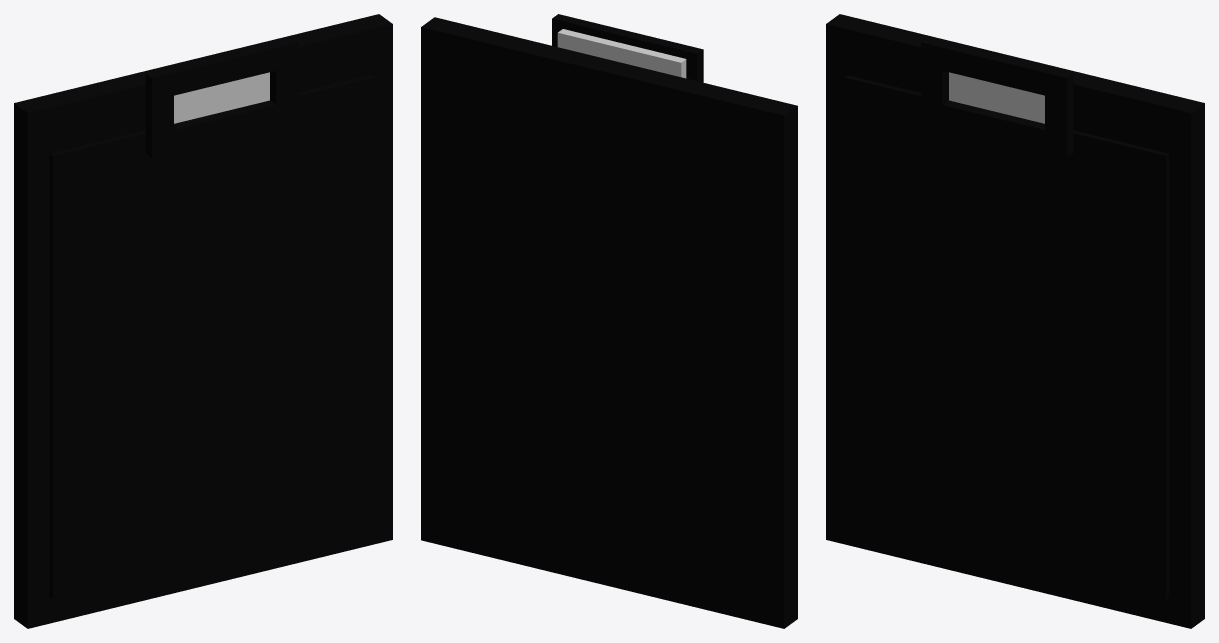
File: create_clipboard_1.obj
3 renders of one model, left to right at view 1: azimuth 30°, elevation 25°; view 2: azimuth 150°, elevation 25°; view 3: azimuth 330°, elevation 25°, orthographic.
Visible parts, largest first — view 1: page, wood_board, spring_clip; view 2: wood_board, spring_clip; view 3: page, wood_board, spring_clip.
Part boxes in pixels (x1,y1,x2,y2): page: [49, 75, 374, 598]; wood_board: [14, 14, 392, 628]; spring_clip: [145, 38, 297, 158]; wood_board: [421, 17, 797, 628]; spring_clip: [552, 14, 703, 82]; page: [844, 75, 1169, 598]; wood_board: [826, 14, 1204, 628]; spring_clip: [921, 38, 1073, 158].
Bounding box in the file's own units: 0.625 × 0.875 × 0.0844.
